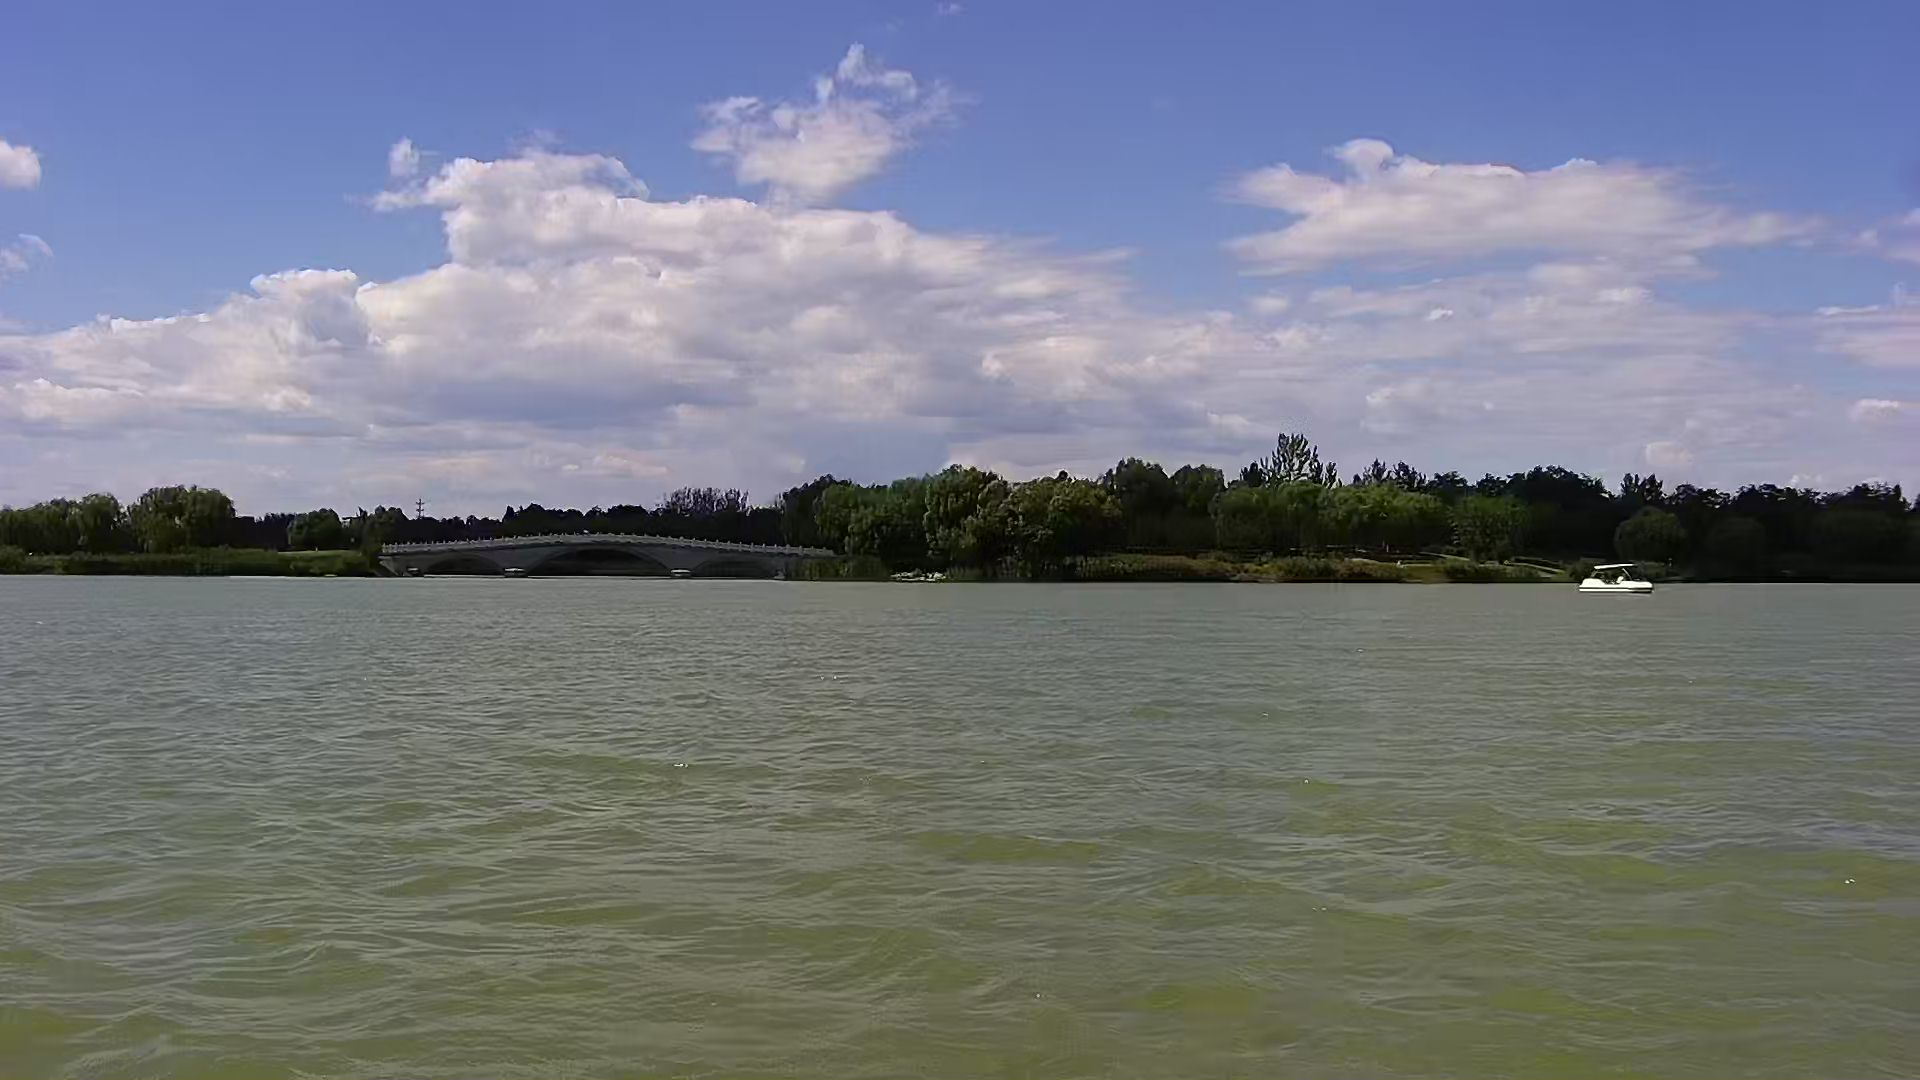boat: (1578, 555, 1654, 600)
bridge: (384, 533, 835, 587)
